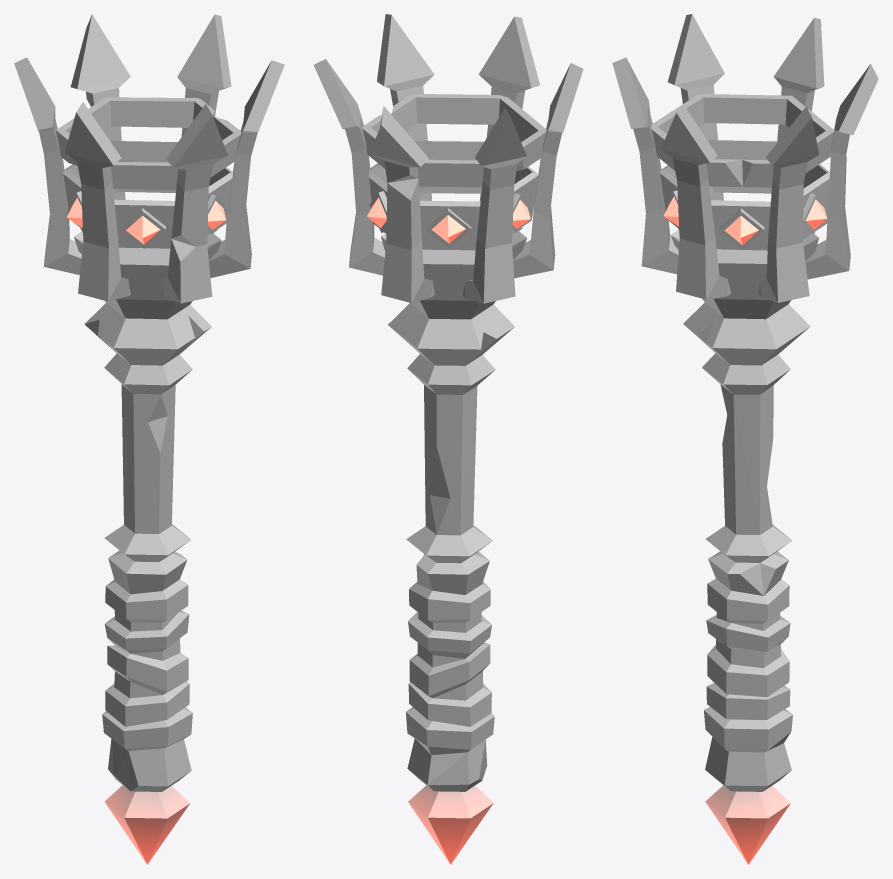
The model's file is SM_Prop_Torch_04.fbx.
The picture shows the model from 3 angles, left to right: view 1: azimuth 30°, elevation 25°; view 2: azimuth 150°, elevation 25°; view 3: azimuth 270°, elevation 25°; orthographic projection.
Visible parts, largest first — view 1: SM_Prop_Torch_04; view 2: SM_Prop_Torch_04; view 3: SM_Prop_Torch_04.
Boxes of the visible parts, bbox=[...] form: SM_Prop_Torch_04: bbox=[14, 14, 284, 864]; SM_Prop_Torch_04: bbox=[313, 14, 583, 864]; SM_Prop_Torch_04: bbox=[612, 14, 878, 864].
Size of the model in its own units: 19.58 by 72.53 by 21.72.
